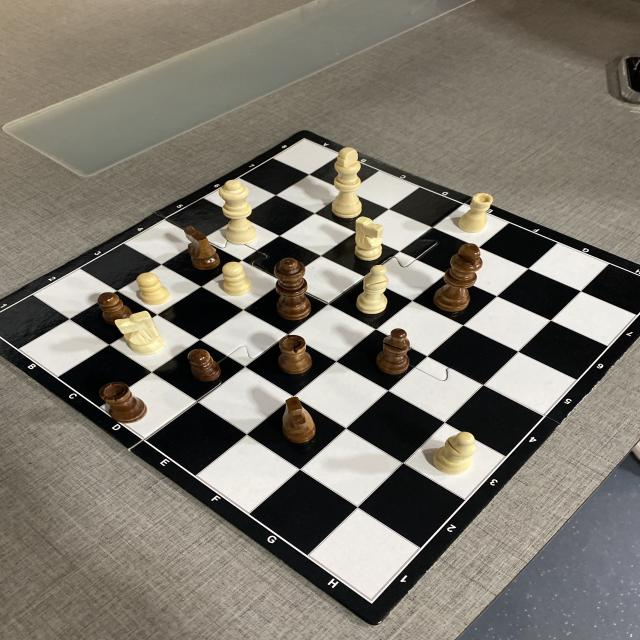Black-Bishop: (376, 328, 412, 376)
Black-King: (432, 243, 483, 313)
Black-Knight: (280, 396, 317, 444), (183, 225, 220, 271)
Black-Pawn: (186, 348, 222, 382), (97, 292, 131, 327)
Black-Queen: (272, 257, 312, 321)
Black-Rook: (97, 380, 147, 422), (277, 334, 314, 375)
White-Bishop: (432, 431, 478, 476), (356, 264, 392, 315)
White-King: (331, 147, 363, 219)
White-Knight: (114, 310, 168, 355), (354, 216, 384, 262)
White-Pawn: (135, 272, 171, 305), (221, 262, 252, 296)
White-Queen: (218, 180, 258, 246)
White-Rook: (458, 192, 494, 233)
